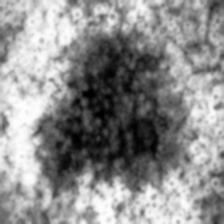Potentially Malignant Skin Tumors: (44, 43, 180, 189)
